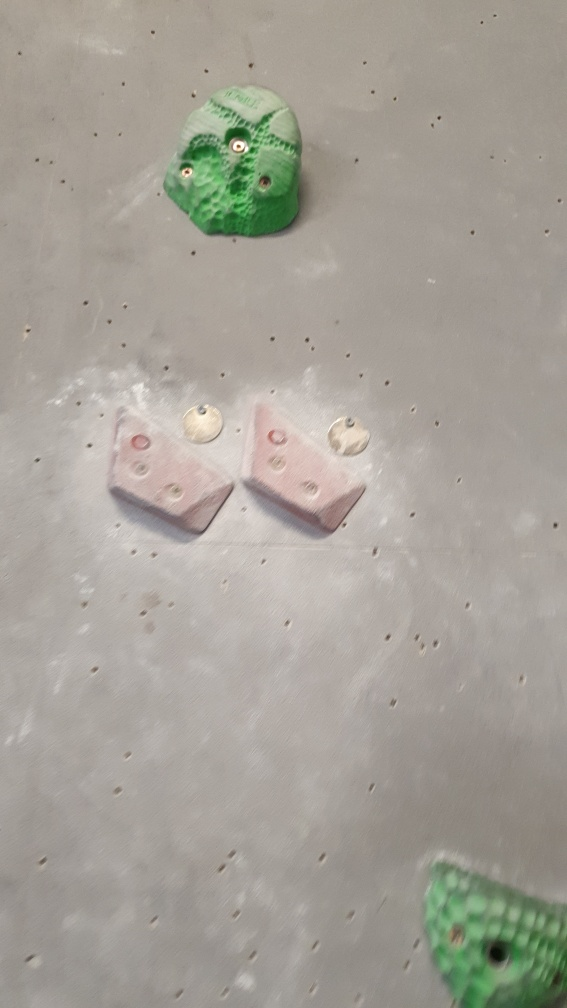Crimp: (239, 392, 367, 537), (106, 411, 234, 541)
Hand Start: (326, 411, 372, 460), (178, 400, 226, 445)
Jug: (162, 84, 307, 236)
